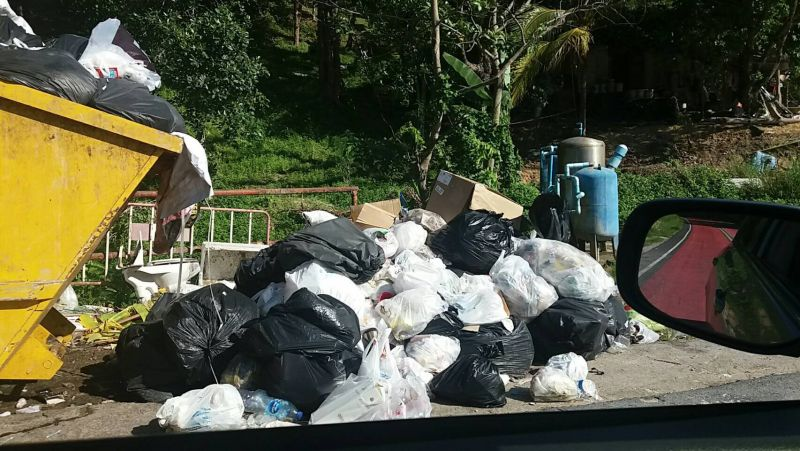plastic_bag: (152, 381, 245, 432), (529, 349, 605, 407)
